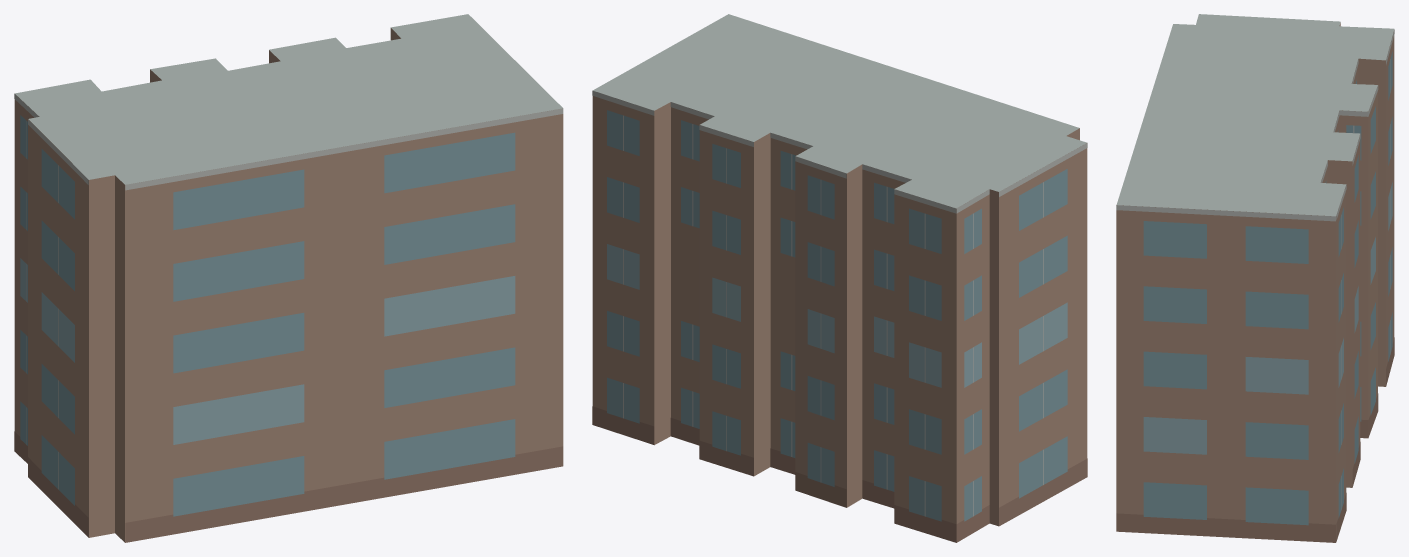
The model's file is survey-upis-32918171.glb.
3 views of the same model, side by side, from view 1: azimuth 30°, elevation 25°; view 2: azimuth 150°, elevation 25°; view 3: azimuth 270°, elevation 25° (orthographic). The views are drawn at different scales.
Visible parts, largest first — view 1: survey-upis-32918171.tmp; view 2: survey-upis-32918171.tmp; view 3: survey-upis-32918171.tmp.
Part boxes in pixels (x1,y1,x2,y2): survey-upis-32918171.tmp: (14, 14, 563, 542); survey-upis-32918171.tmp: (592, 14, 1087, 542); survey-upis-32918171.tmp: (1116, 14, 1394, 542).
Size of the model in its own units: 20.88 by 15.7 by 12.13.
